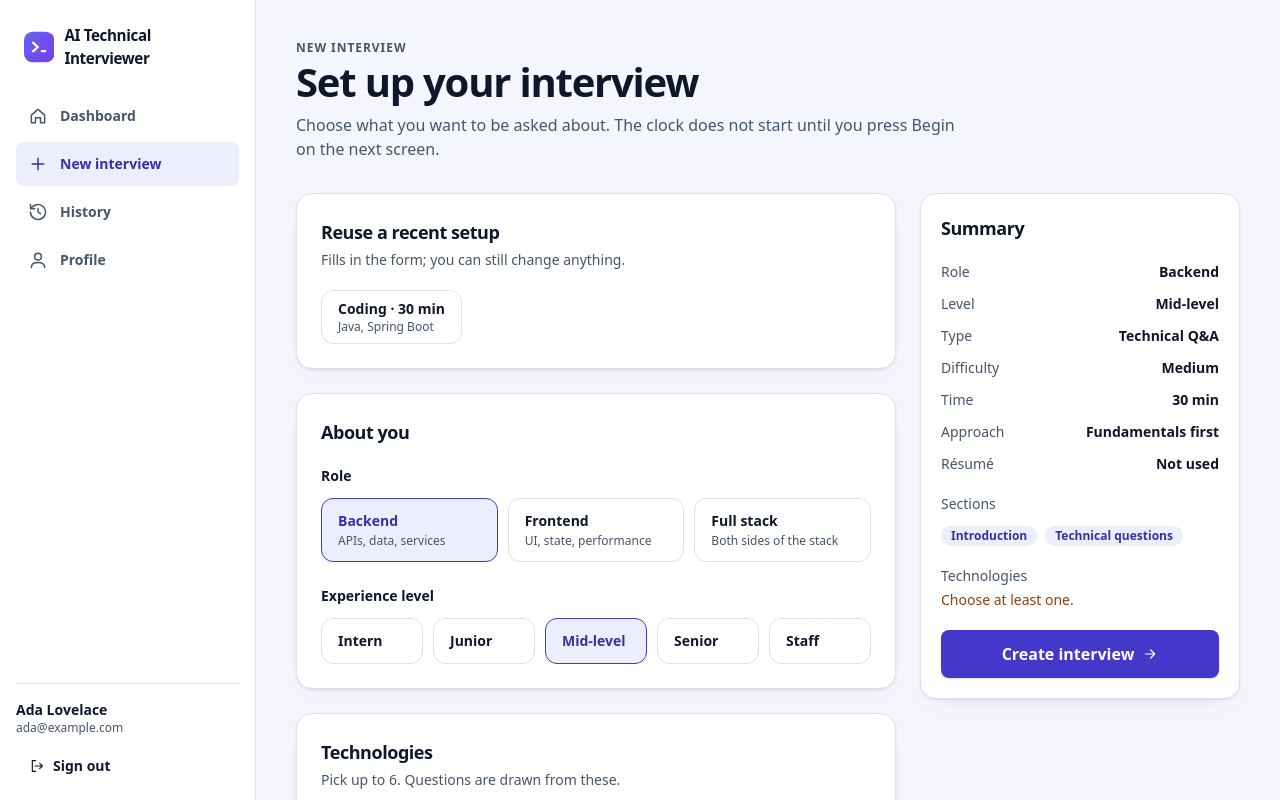
Test: SetupPage › refills the form from a recent setup
Click the button "Coding · 30 min Java, Spring Boot": x=392, y=317 left=321, top=290, right=462, bottom=344
(page scrolled)
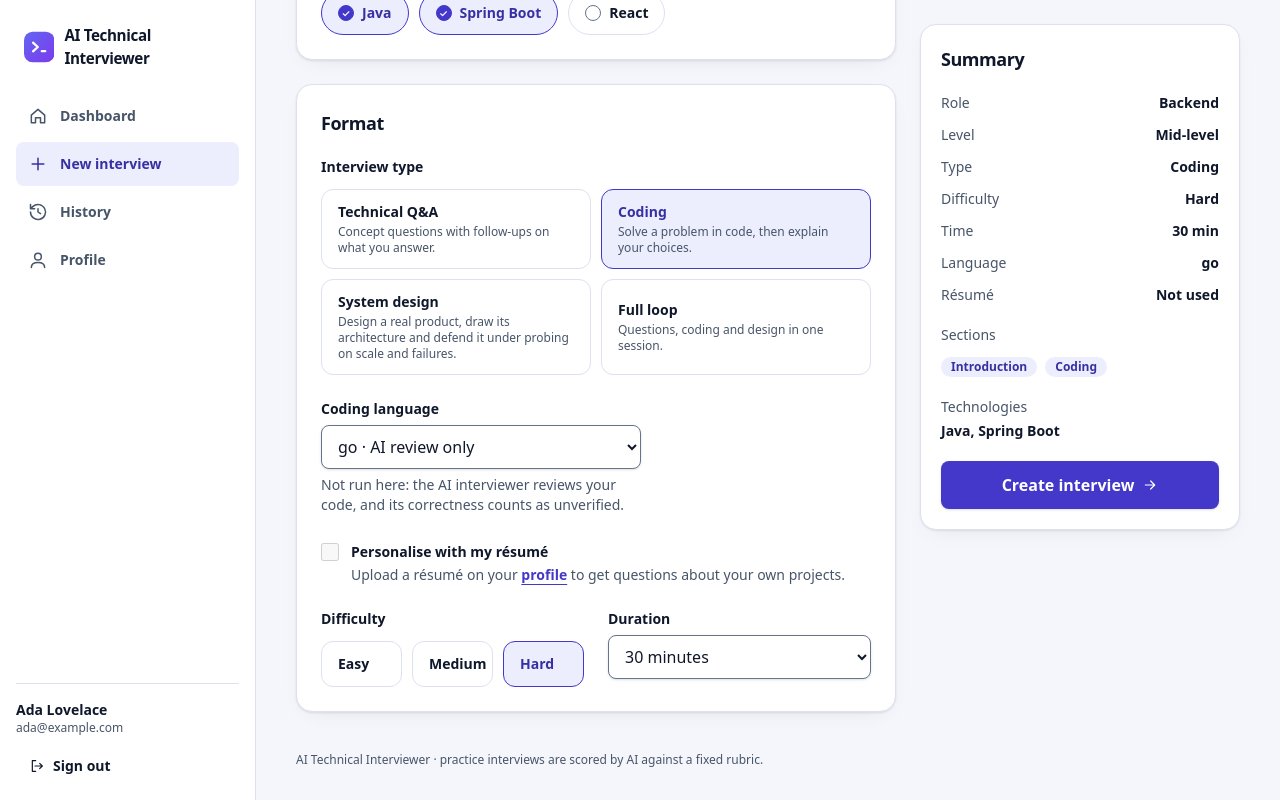
Check: the radio button labelled "Hard" is checked, box left=503, top=641, right=584, bottom=687
Check: the radio button labelled "Coding Solve a problem in code, then explain your choices." is checked, box left=601, top=189, right=871, bottom=269
Check: the dropdown labelled "Coding language" shows "go · AI review only", box left=321, top=425, right=641, bottom=469
